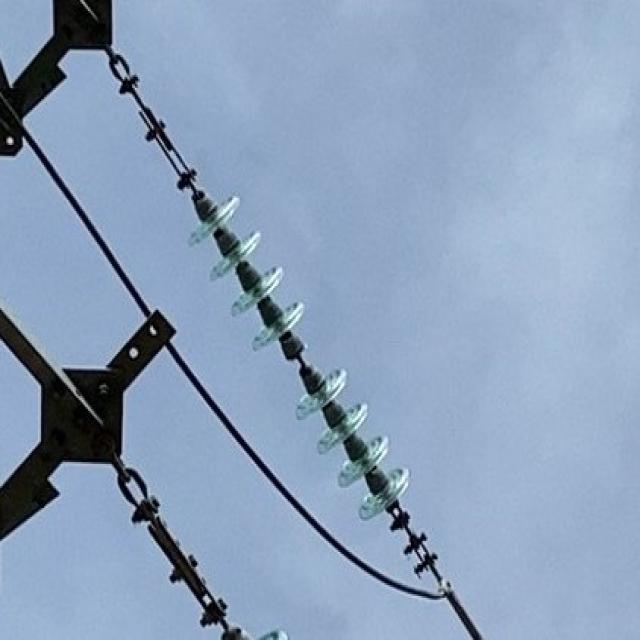正常绝缘子: (150, 150, 466, 608)
绝缘子破损: (277, 339, 322, 380)
